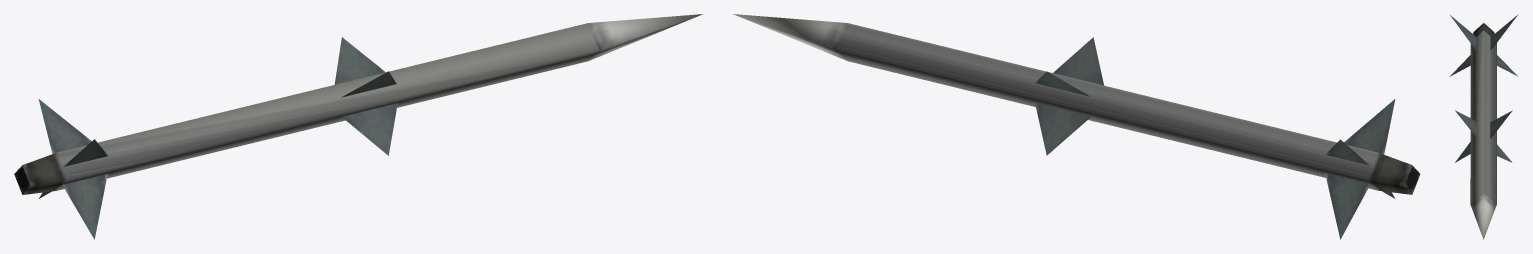
File: projectile_sa6_missile_desert_mp_LOD3.obj
3 renders of one model, left to right at view 1: azimuth 30°, elevation 25°; view 2: azimuth 150°, elevation 25°; view 3: azimuth 270°, elevation 25°, orthographic. The views are drawn at different scales.
Parts seen in each view (by area): view 1: mtl_sa6_missile_desert; view 2: mtl_sa6_missile_desert; view 3: mtl_sa6_missile_desert.
Part boxes in pixels (bbox=[...]): mtl_sa6_missile_desert: bbox=[14, 14, 702, 239]; mtl_sa6_missile_desert: bbox=[733, 14, 1420, 239]; mtl_sa6_missile_desert: bbox=[1449, 15, 1517, 239].
Bounding box in the file's own units: 1244 × 176 × 176.
